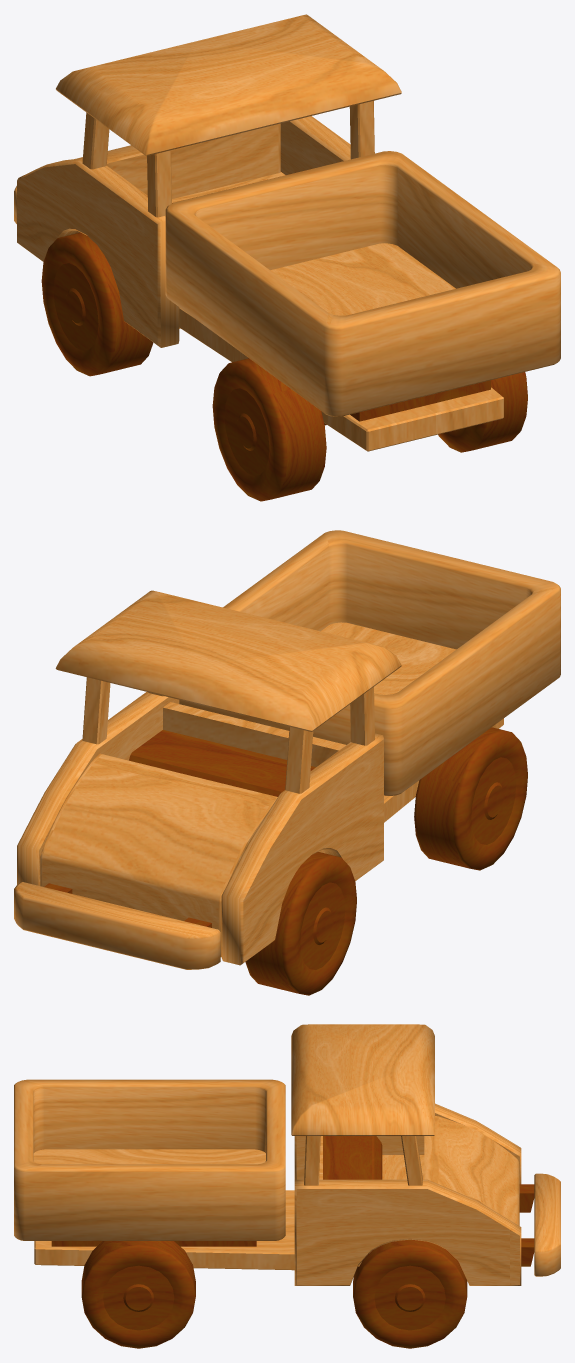
File: Truck.fbx
3 views of the same model, one above another, from view 1: azimuth 30°, elevation 25°; view 2: azimuth 150°, elevation 25°; view 3: azimuth 270°, elevation 25° (orthographic). The views are drawn at different scales.
Parts seen in each view (by area): view 1: Truck; view 2: Truck; view 3: Truck.
Part boxes in pixels (x1,y1,x2,y2): Truck: (14,14,560,501); Truck: (14,530,560,995); Truck: (14,1024,560,1348).
Size of the model in its own units: 5.63 by 6.26 by 13.1.
